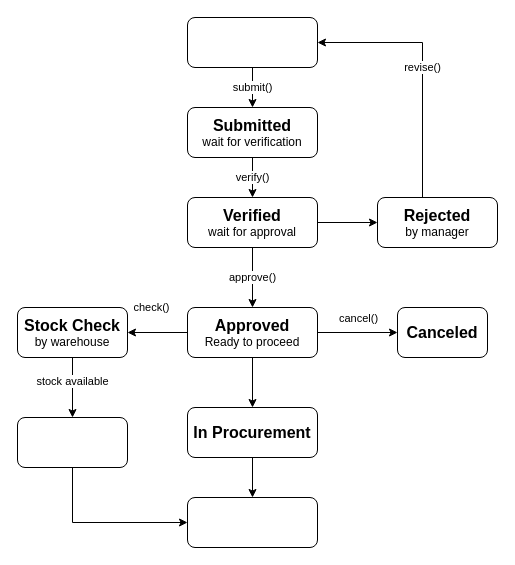
The diagram is 515 pixels wide and 565 high, and some of its shapes have lost their labels. The centre of each missing label's shape, as x and y in pixels:
Completed: [252,522]
Draft created by employee: [252,42]
In Stock: [72,442]
